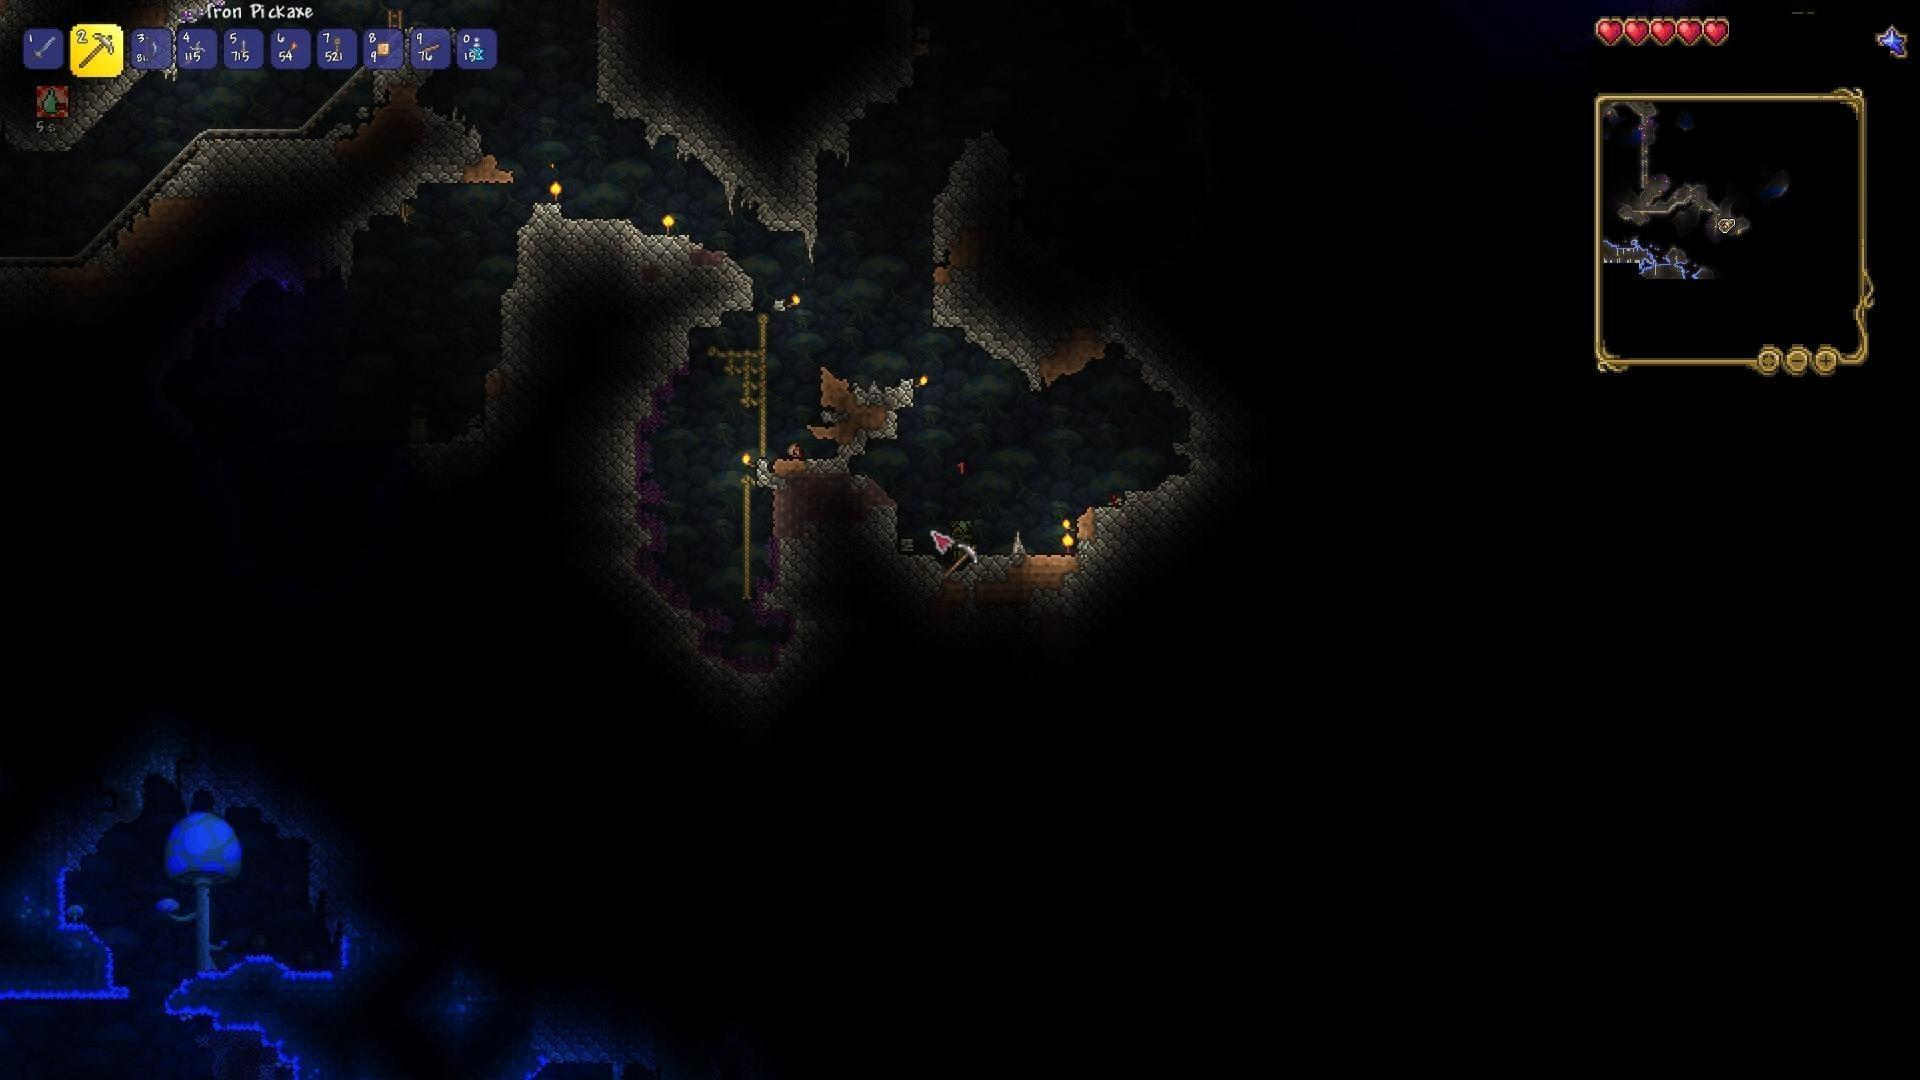heart: (1702, 17, 1733, 51), (1593, 16, 1626, 46), (1676, 15, 1704, 50), (1650, 16, 1676, 49), (1625, 15, 1651, 44)
stone: (583, 13, 832, 236), (498, 194, 665, 448), (923, 127, 1034, 385), (1113, 313, 1245, 450), (654, 219, 761, 373), (808, 30, 943, 142), (766, 541, 911, 644), (601, 467, 687, 632), (1087, 485, 1232, 582), (174, 125, 331, 203), (384, 120, 498, 208)
